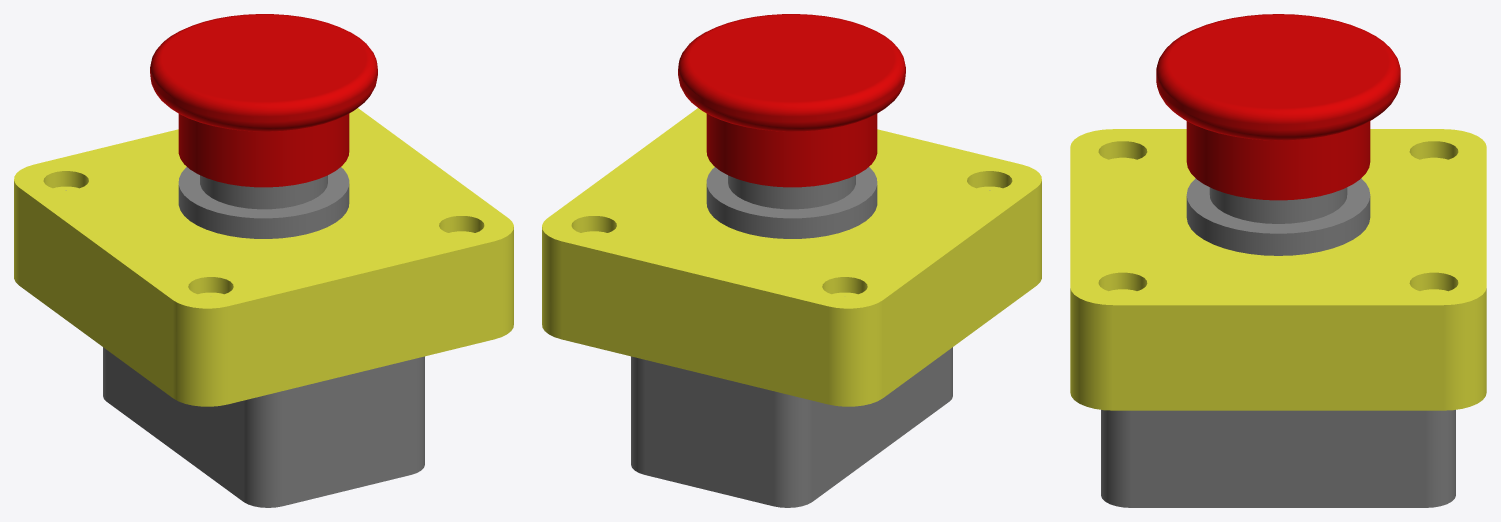
The model's file is eStop.dae.
3 renders of one model, left to right at view 1: azimuth 30°, elevation 25°; view 2: azimuth 150°, elevation 25°; view 3: azimuth 270°, elevation 25°, orthographic. The views are drawn at different scales.
Visible parts, largest first — view 1: e_stop; view 2: e_stop; view 3: e_stop.
Part boxes in pixels (bbox=[...]): e_stop: bbox=[14, 14, 513, 507]; e_stop: bbox=[542, 14, 1041, 507]; e_stop: bbox=[1070, 14, 1486, 507].
Size of the model in its own units: 0.068 by 0.068 by 0.072.
